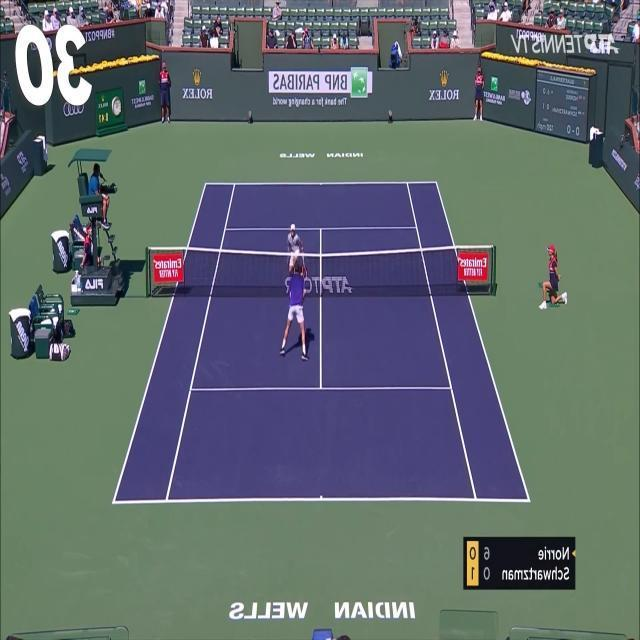court: (111, 182, 532, 504)
net: (145, 242, 497, 298)
player: (280, 262, 310, 362)
